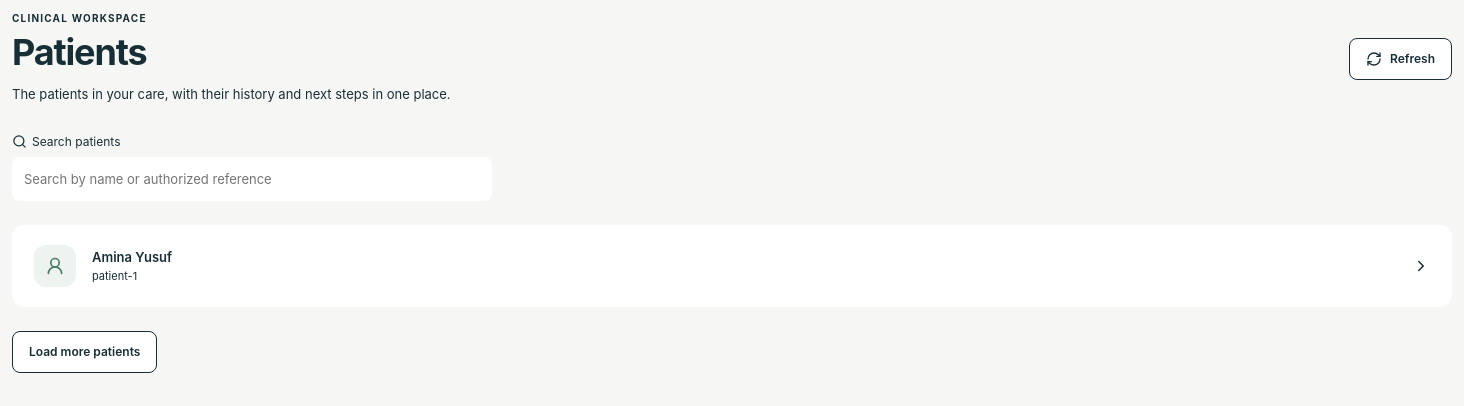
Scenario: doctor collections › appends cursor pages without duplicating existing records
Expected: the text "Amina Yusuf" is shown, [92,249,172,265]
Click the button "Load more patients" at (85, 352), box [12,331,157,373]
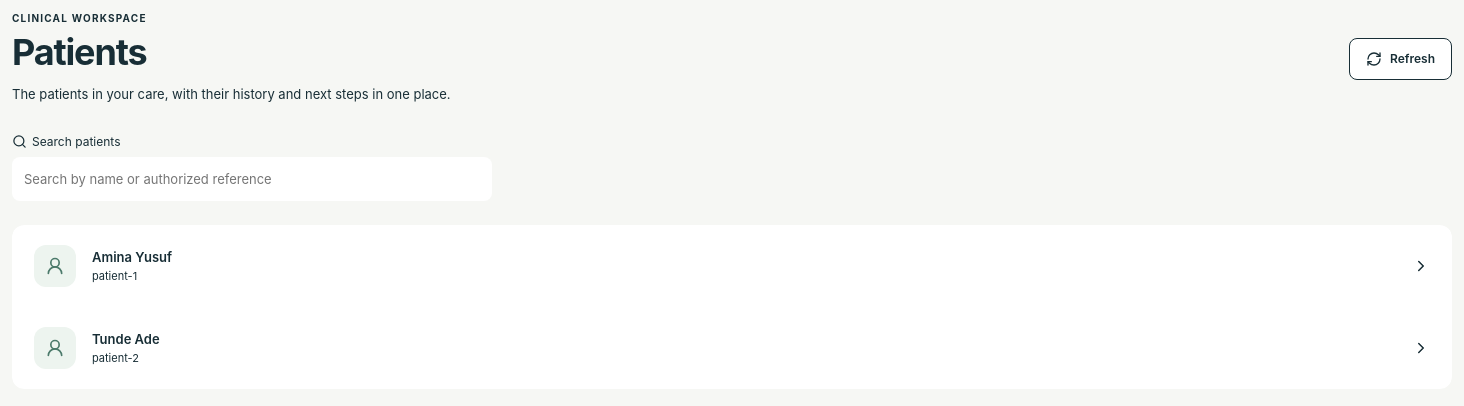
Expected: the text "Amina Yusuf" is shown once, [92,249,172,265]
Result: the text "Tunde Ade" is shown at [92,331,160,347]
